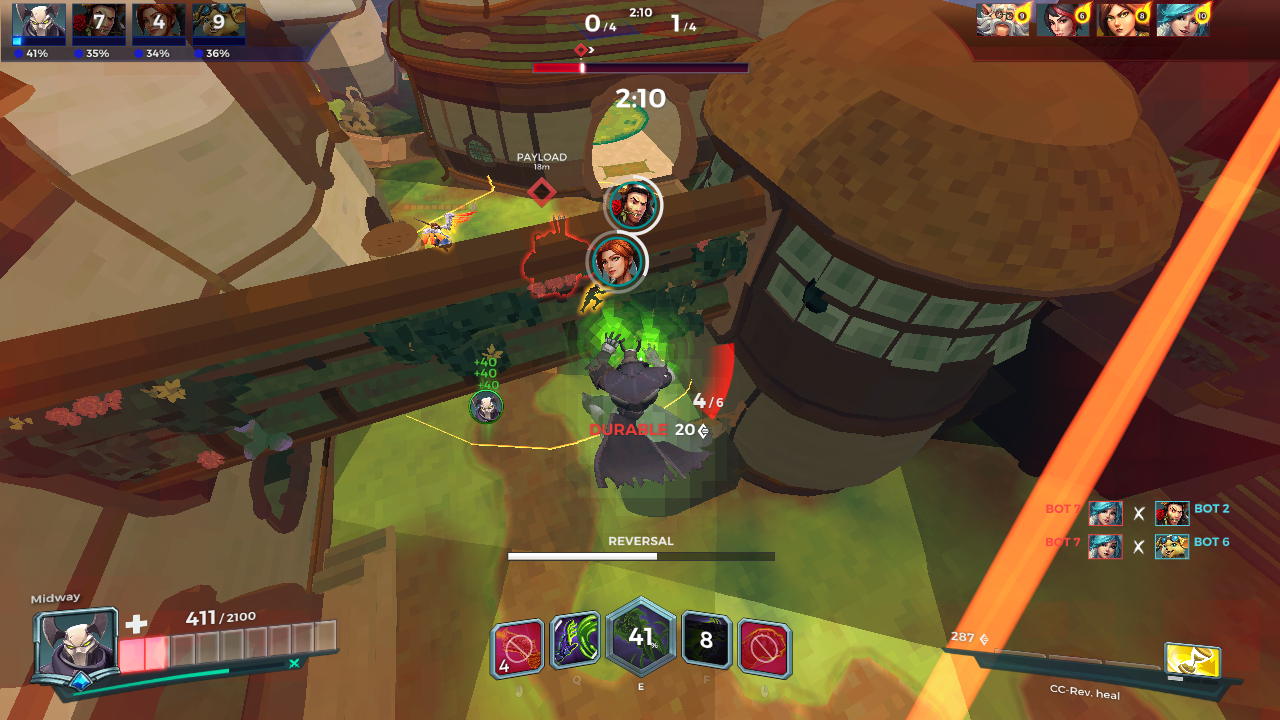model: (413, 216, 461, 255), (576, 284, 602, 310)
